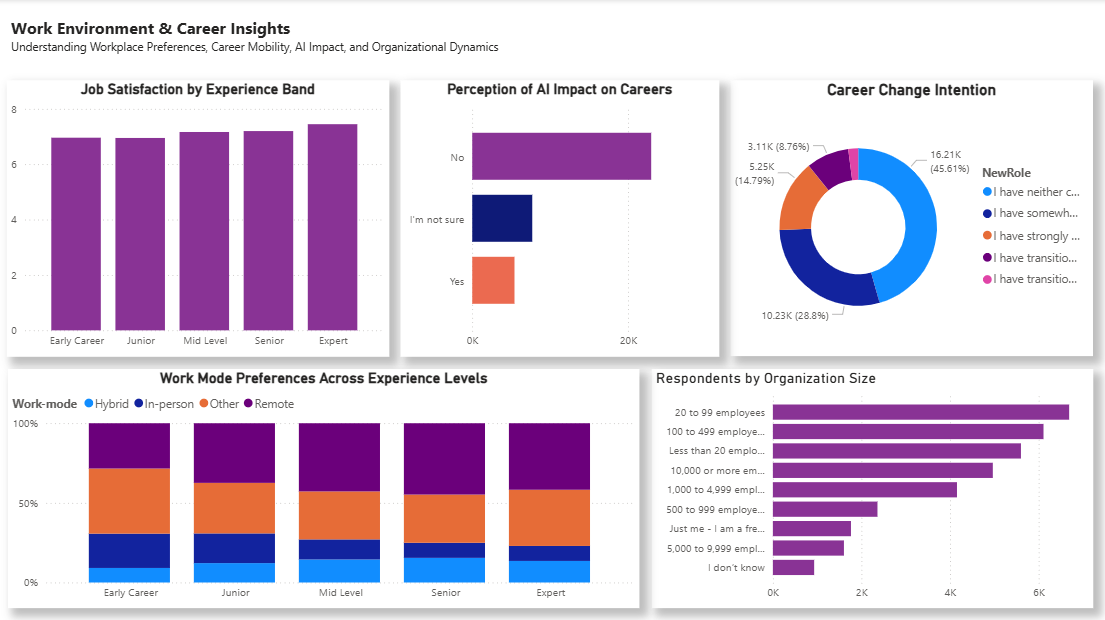

The page's visual inventory and layout, read from the dashboard file:
{"tool":"powerbi","page":{"name":"Page 4","canvas":[1280,720],"ordinal":3},"visuals":[{"type":"textbox","box":[10.1,15.9,833.9,57.7],"z":0},{"type":"clusteredColumnChart","title":"Job Satisfaction by Experience Band","fields":{"Category":["workforce_base.Experience Band"],"Y":["workforce_base.Average Job Satisfaction"]},"box":[10.1,93.8,441.5,318.9],"z":1000},{"type":"donutChart","title":"Career Change Intention","fields":{"Category":["workforce_base.NewRole"],"Y":["CountNonNull(workforce_base.ResponseId)"]},"box":[845.4,94.3,418.2,318.6],"z":2000},{"type":"clusteredBarChart","title":"Perception of AI Impact on Careers","fields":{"Y":["CountNonNull(workforce_base.ResponseId)"],"Category":["workforce_base.AIThreat"]},"box":[464.6,93.8,367.9,318.9],"z":3000},{"type":"clusteredBarChart","title":"Respondents by Organization Size","fields":{"Category":["workforce_base.OrgSize"],"Y":["CountNonNull(workforce_base.ResponseId)"]},"box":[754.5,426.8,509.9,276.4],"z":4000},{"type":"hundredPercentStackedColumnChart","title":"Work Mode Preferences Across Experience Levels","fields":{"Category":["workforce_base.Experience Band"],"Series":["workforce_base.Work-mode"],"Y":["CountNonNull(workforce_base.ResponseId)"]},"box":[11,426.8,728.8,276.4],"z":5000}]}

Visuals, with their boxes in screenshot pixels (x1, y1, x2, y2), scaled from the page's 1280x720 canvas onto the 1105x620 screenshot:
textbox: 9 14 729 63
"Job Satisfaction by Experience Band" clusteredColumnChart: 9 81 390 355
"Career Change Intention" donutChart: 730 81 1091 356
"Perception of AI Impact on Careers" clusteredBarChart: 401 81 719 355
"Respondents by Organization Size" clusteredBarChart: 651 368 1092 606
"Work Mode Preferences Across Experience Levels" hundredPercentStackedColumnChart: 9 368 639 606
